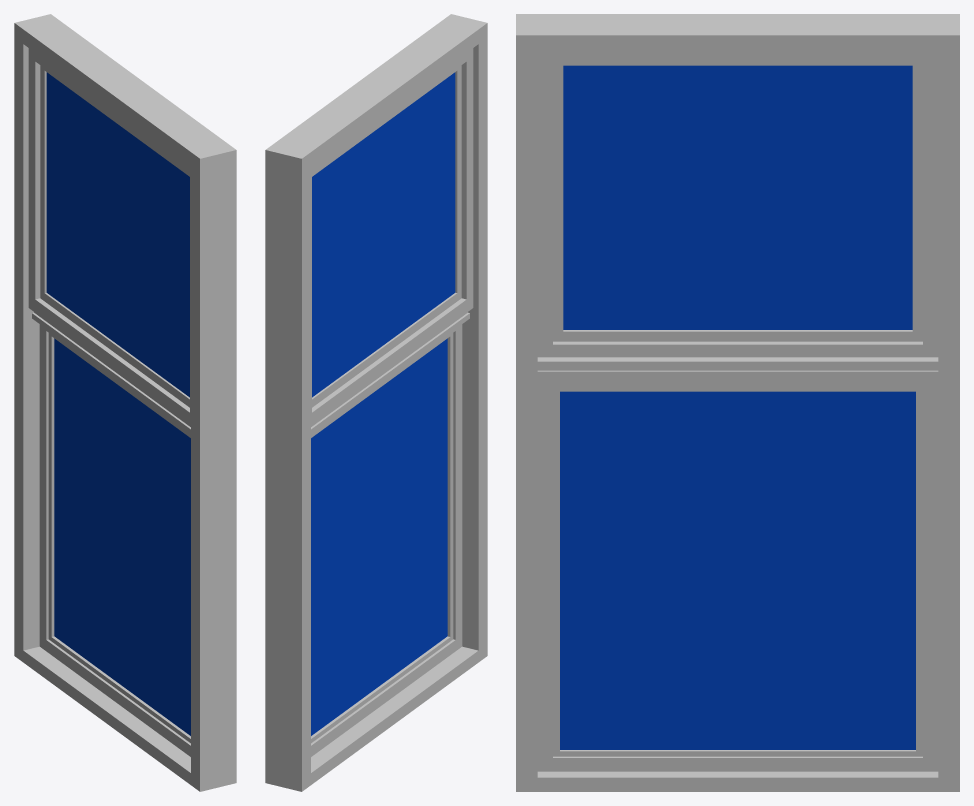
The model's file is Window.fbx.
The picture shows the model from 3 angles, left to right: view 1: azimuth 30°, elevation 25°; view 2: azimuth 150°, elevation 25°; view 3: azimuth 270°, elevation 25°; orthographic projection. The views are drawn at different scales.
Parts seen in each view (by area): view 1: Window.001; view 2: Window.001; view 3: Window.001.
Part boxes in pixels (bbox=[...]): Window.001: bbox=[14, 14, 236, 791]; Window.001: bbox=[265, 14, 487, 791]; Window.001: bbox=[516, 14, 959, 791].
Bounding box in the file's own units: 0.1096 × 1.82 × 0.9682.
